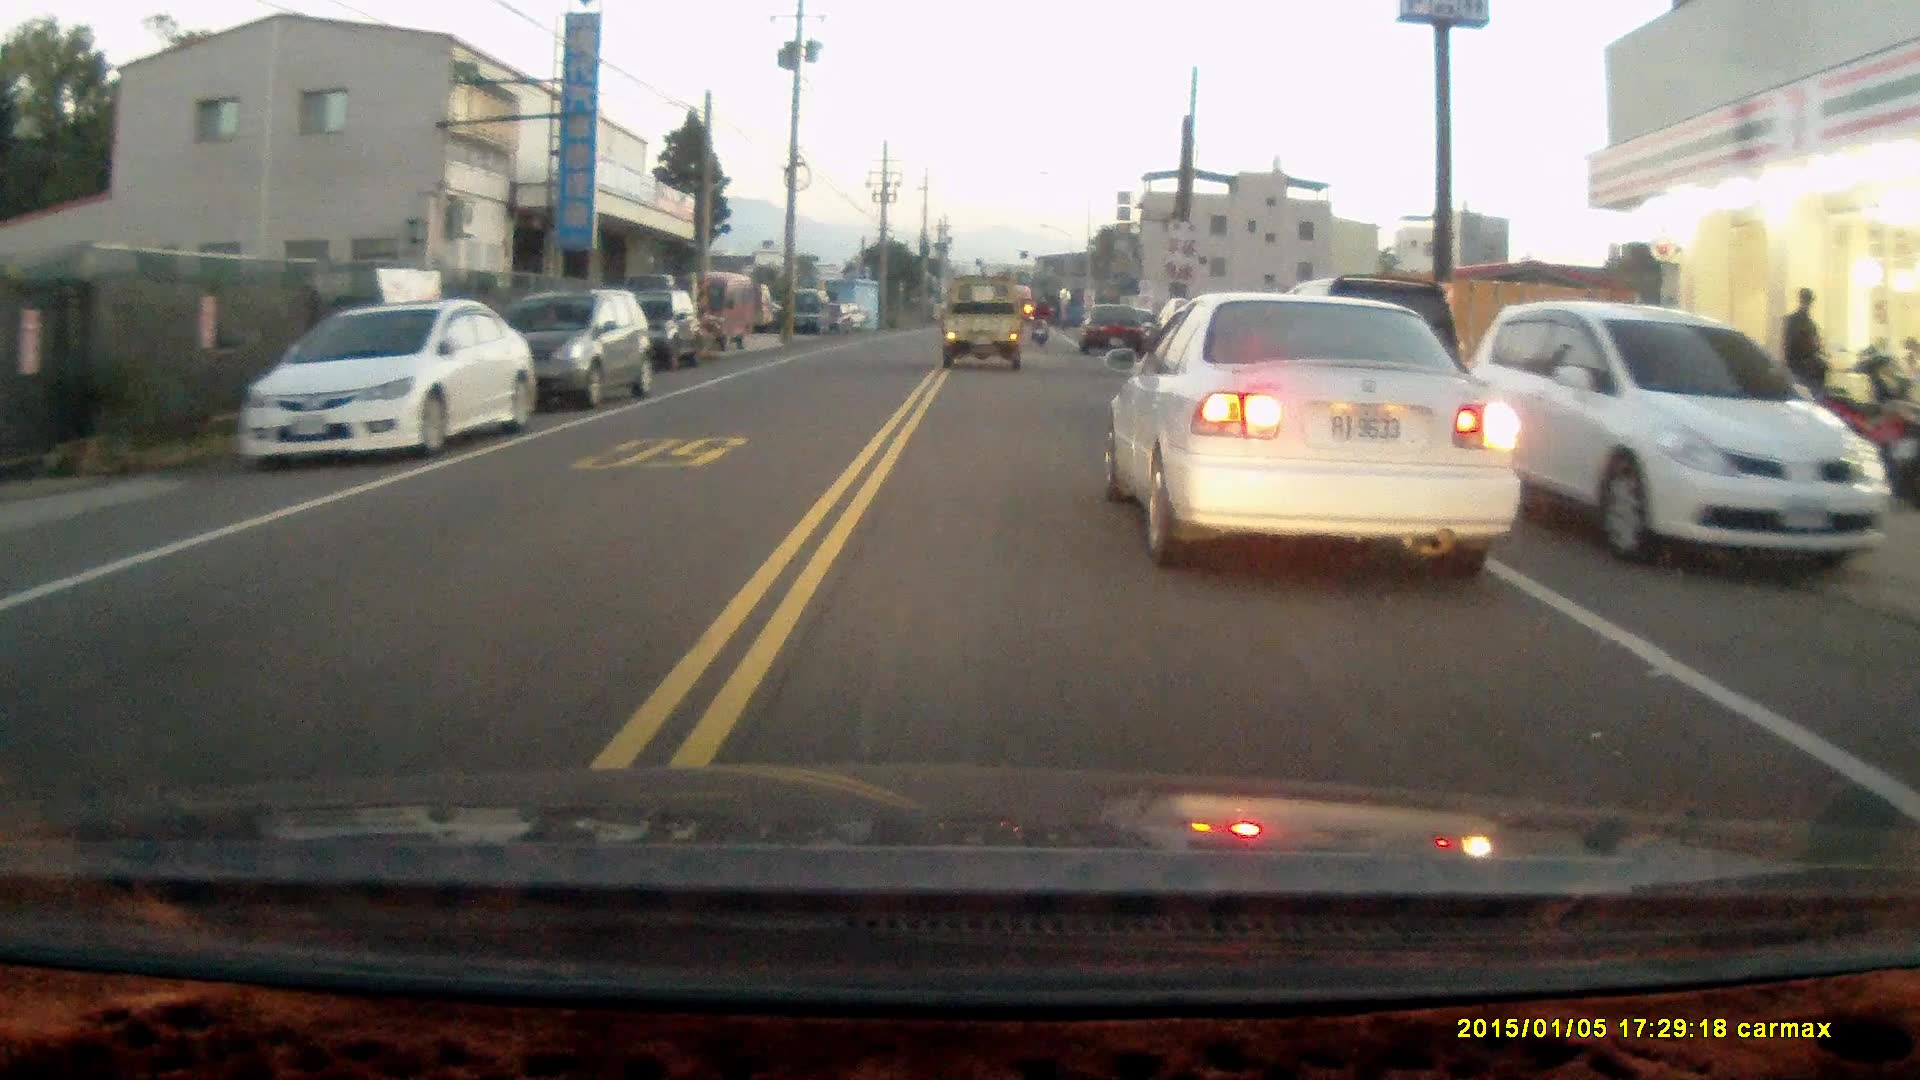pedestrian: (1779, 285, 1823, 397)
rider: (1026, 296, 1053, 344)
vehicle: (1109, 290, 1522, 574), (1462, 298, 1889, 563), (240, 298, 543, 462), (463, 285, 649, 408), (613, 289, 710, 376), (940, 272, 1026, 369), (683, 270, 766, 346), (1081, 303, 1153, 355)
